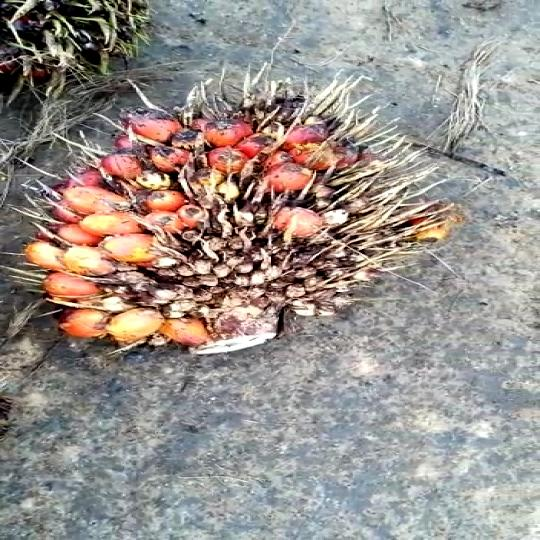masak: (13, 73, 427, 375)
